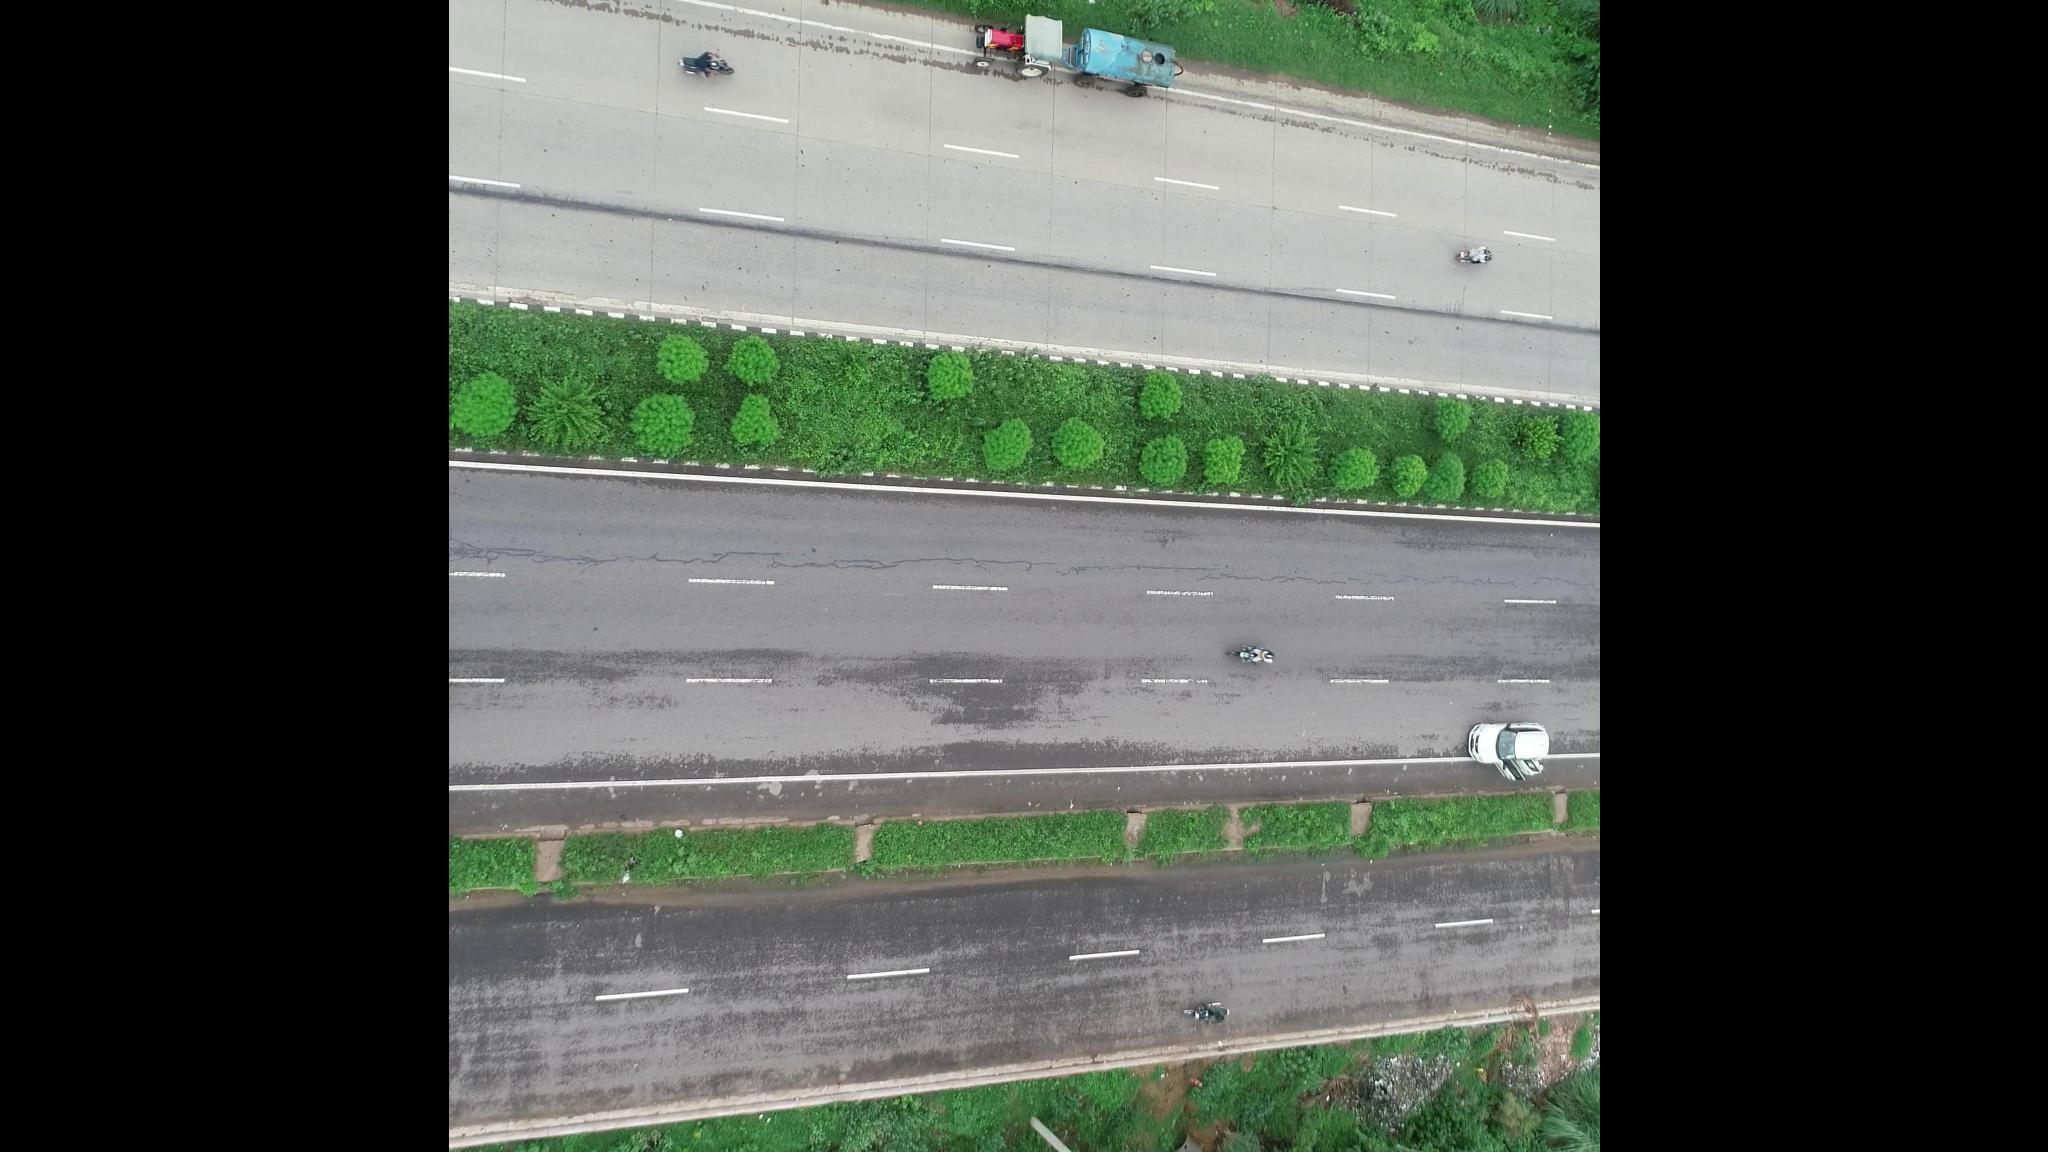Cracks: (470, 525, 1049, 592), (1065, 549, 1568, 601)
